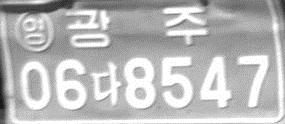0: (19, 58, 51, 111)
4: (199, 55, 233, 108)
5: (159, 55, 195, 109)
6: (54, 58, 88, 111)
7: (236, 55, 269, 108)
8: (123, 57, 157, 109)
광주_D: (65, 6, 210, 48)
다: (90, 61, 122, 107)
영: (11, 9, 57, 52)
